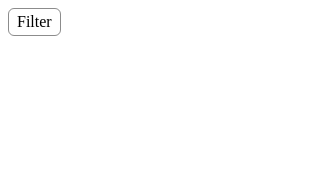
Test: FilterBox (spec filter §3, §5) › offers Clear filter only while something is selected, and puts focus back on the button
Click the button "Filter" at (34, 22), box [8, 8, 61, 36]
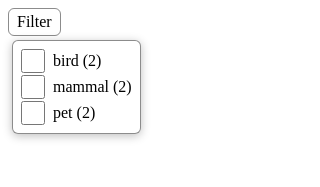
Expected: the button "Clear filter" is not shown
Click the checkbox labelled "bird (2)" at (33, 61), box [21, 49, 45, 73]
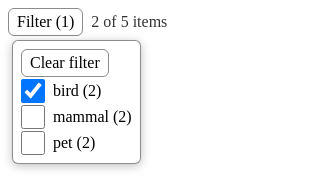
Click the button "Clear filter" at (65, 63), box [21, 49, 109, 77]
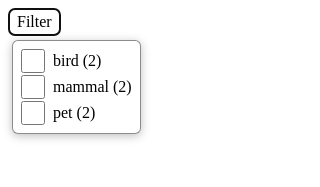
Result: the button "Clear filter" is gone
